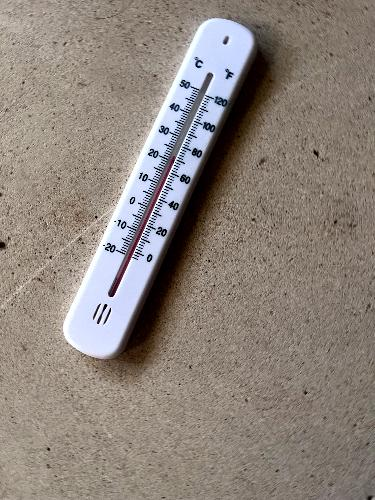thermo: (55, 12, 268, 365)
